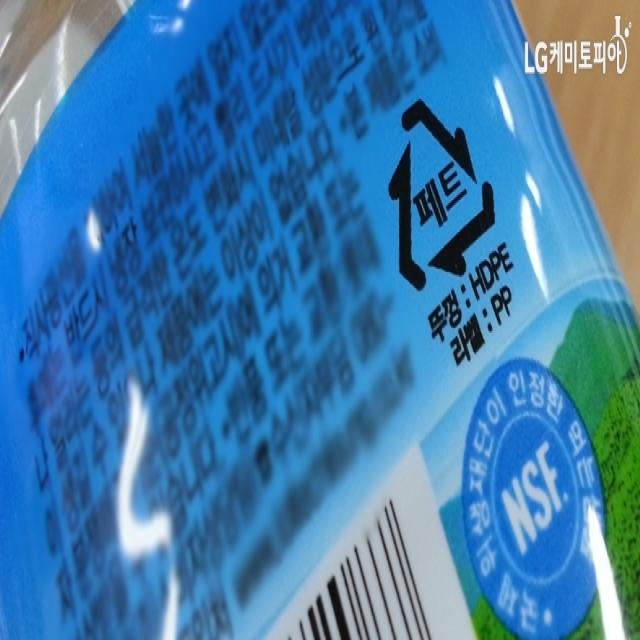PET: (386, 98, 496, 292)
